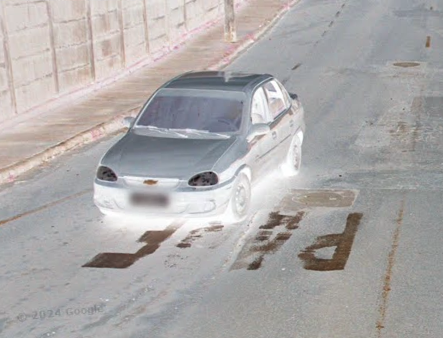car: (87, 60, 312, 224)
